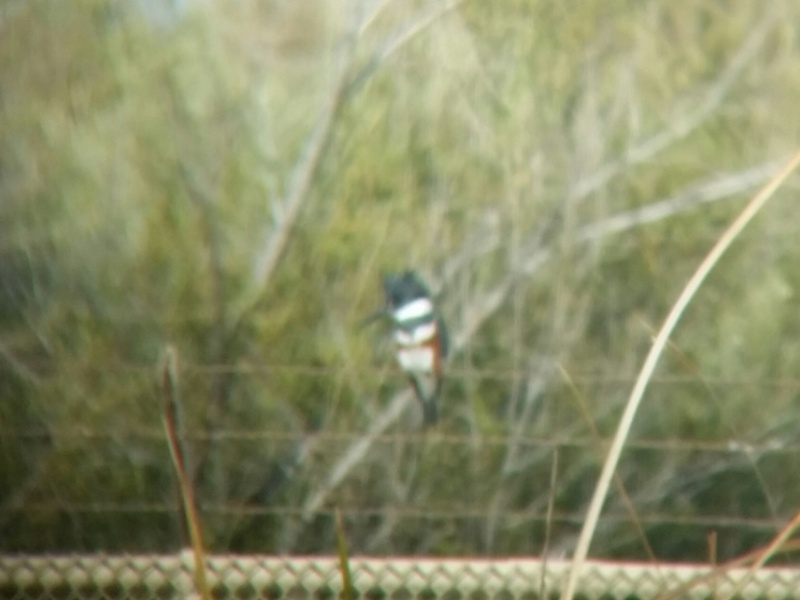kingfisher: (376, 265, 448, 429)
